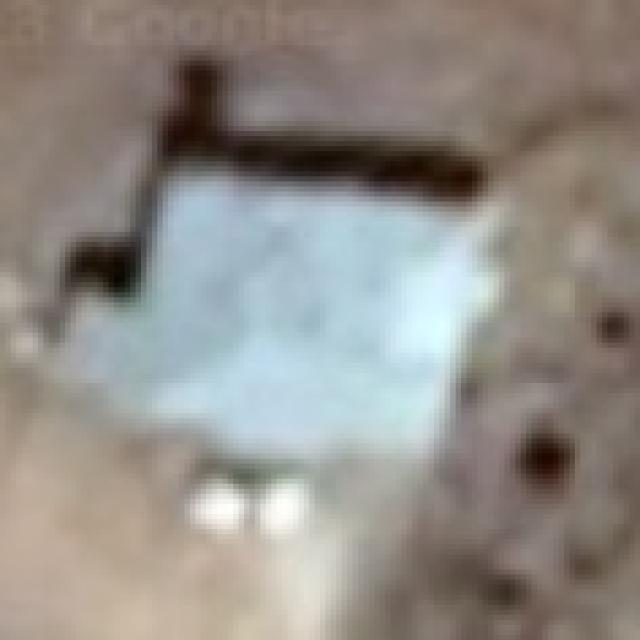Batiment: (58, 170, 492, 461)
